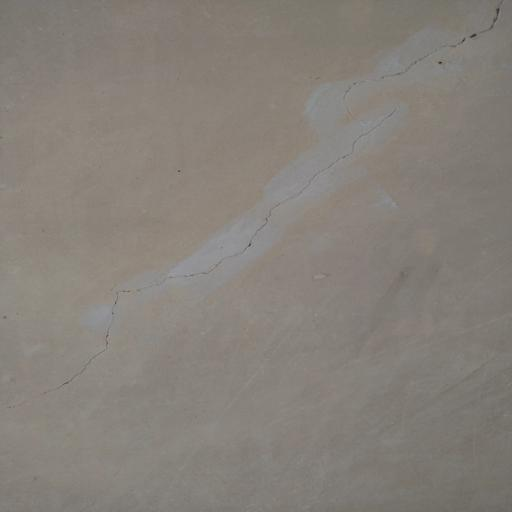minor_crack: (0, 0, 512, 441)
